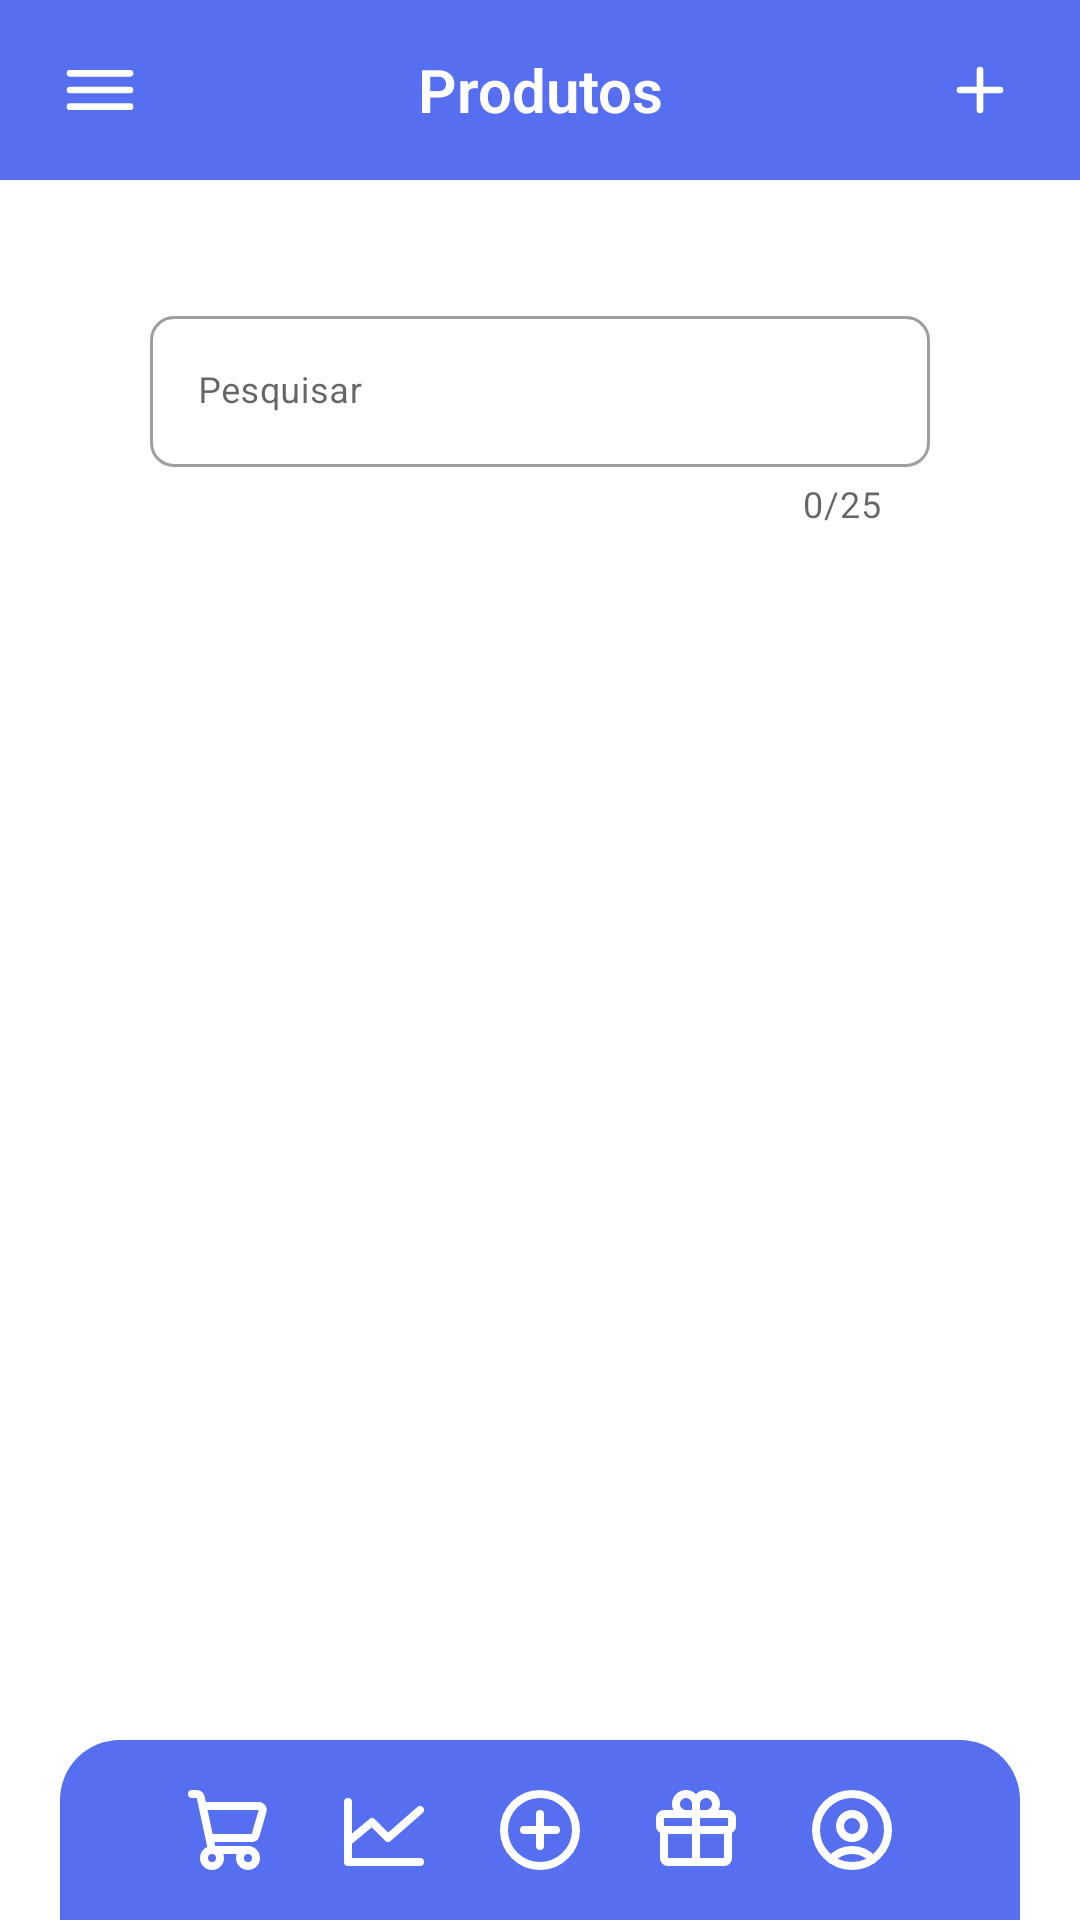

Icons on this 1080 x 1920 Android screen, each with the point to tap as point (x, y):
add plus: point (980, 90)
add plus circle: point (540, 1830)
chart line: point (384, 1832)
gift: point (696, 1828)
hamburger lg: point (100, 90)
shopping cart: point (227, 1830)
usercircle: point (852, 1830)
